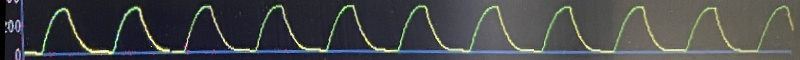normal_volume: (29, 0, 800, 60)
